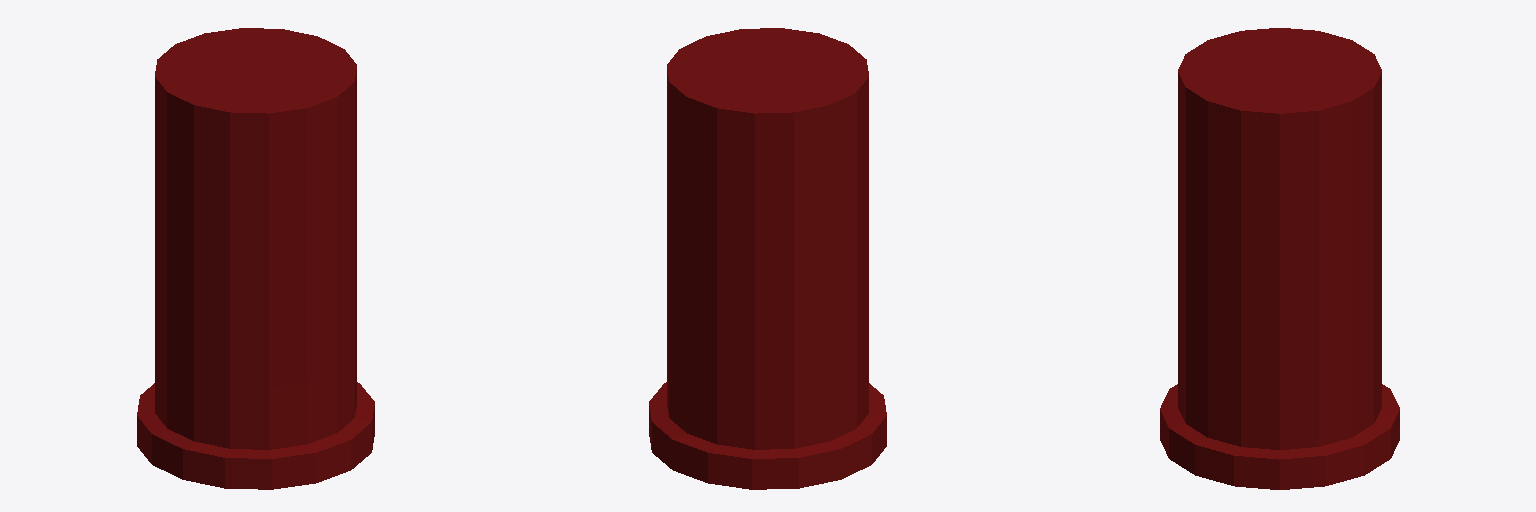
Rendered from Shell.obj.
The picture shows the model from 3 angles: view 1: azimuth 30°, elevation 25°; view 2: azimuth 150°, elevation 25°; view 3: azimuth 270°, elevation 25°; orthographic projection.
Parts seen in each view (by area): view 1: Shell; view 2: Shell; view 3: Shell.
Part boxes in pixels (x1,y1,x2,y2): Shell: (137,28,374,489); Shell: (649,28,886,489); Shell: (1160,28,1399,489).
Bounding box in the file's own units: 0.8108 × 1.38 × 0.8109.